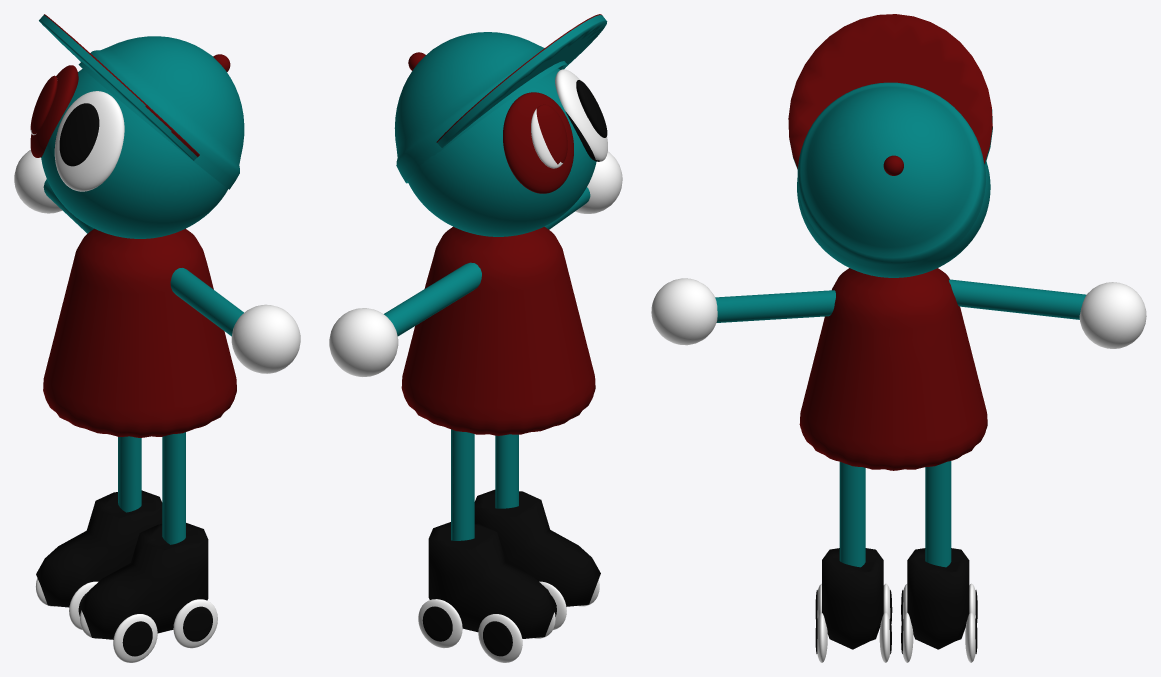
Rendered from studyweek character Hitted final.fbx.
The picture shows the model from 3 angles, left to right: view 1: azimuth 30°, elevation 25°; view 2: azimuth 150°, elevation 25°; view 3: azimuth 270°, elevation 25°; orthographic projection. The views are drawn at different scales.
Visible parts, largest first — view 1: head, body, right leg, left leg, right arm, left arm; view 2: head, body, left leg, right leg, left arm, right arm; view 3: head, body, left leg, right leg, left arm, right arm.
Part boxes in pixels (x1,y1,x2,y2): head: [30, 14, 244, 238]; body: [43, 228, 236, 437]; right leg: [80, 432, 217, 662]; left leg: [35, 436, 162, 629]; right arm: [170, 268, 300, 373]; left arm: [14, 149, 94, 233]; head: [394, 14, 607, 236]; body: [401, 226, 595, 435]; left leg: [418, 429, 556, 662]; right leg: [474, 434, 600, 629]; left arm: [329, 262, 481, 376]; right arm: [544, 151, 622, 229]; head: [788, 14, 992, 277]; body: [799, 268, 987, 470]; left leg: [901, 461, 977, 662]; right leg: [815, 462, 892, 662]; left arm: [949, 279, 1146, 348]; right arm: [651, 278, 835, 345].
Size of the model in its own units: 7.67 by 24.66 by 18.45.
